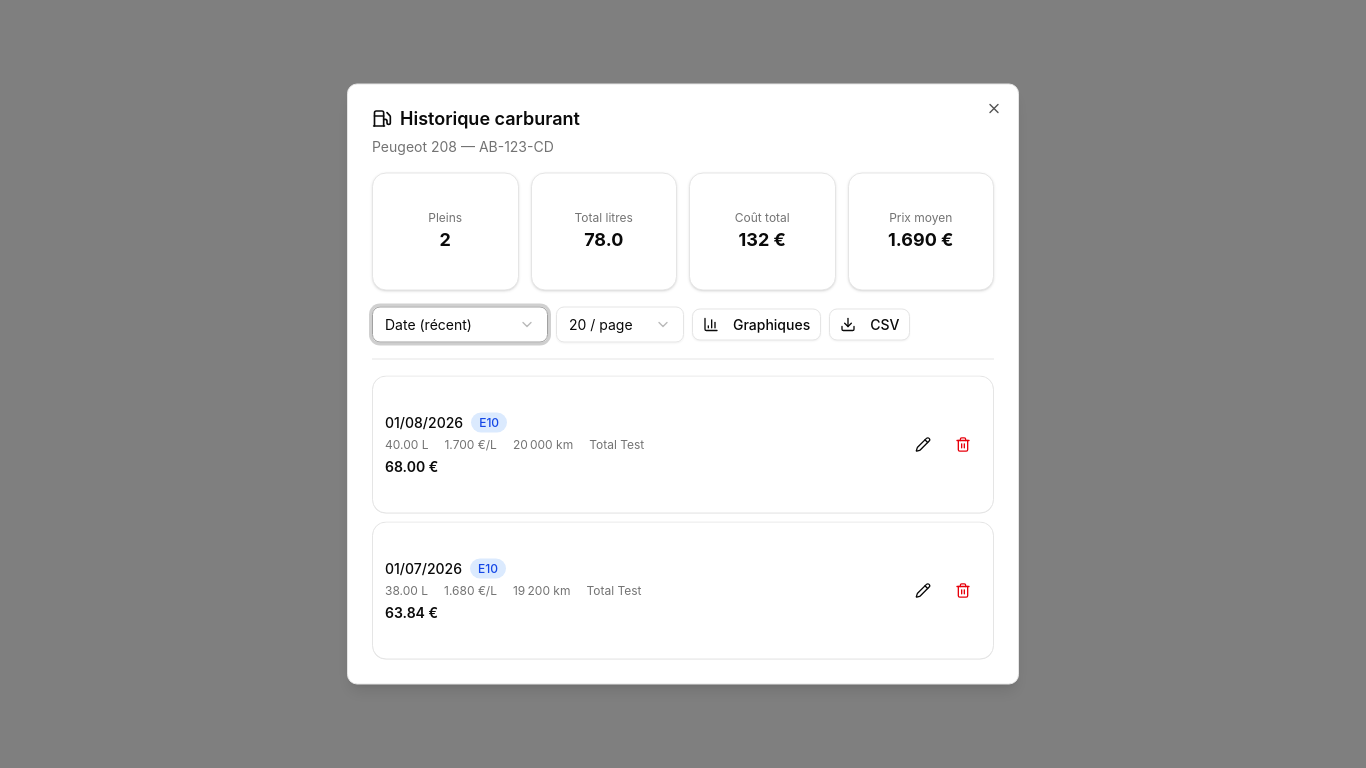
FuelViewDialog › opens the charts dialog from the Graphiques button
Expected: the heading "Historique carburant" is shown, left=372, top=108, right=580, bottom=128
Click the button "Graphiques". click: [757, 324]
box: left=692, top=308, right=821, bottom=340
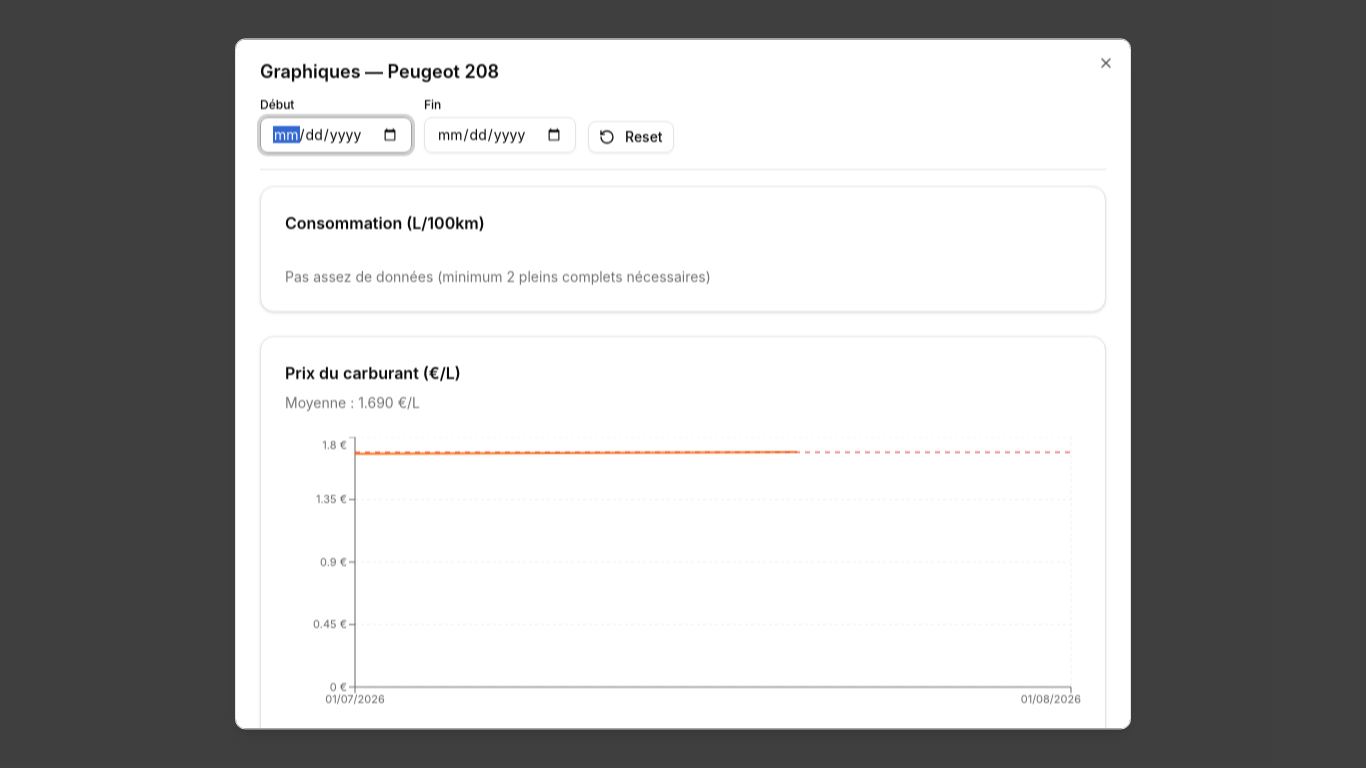
Expected: the button "Reset" is shown, left=588, top=121, right=674, bottom=153
